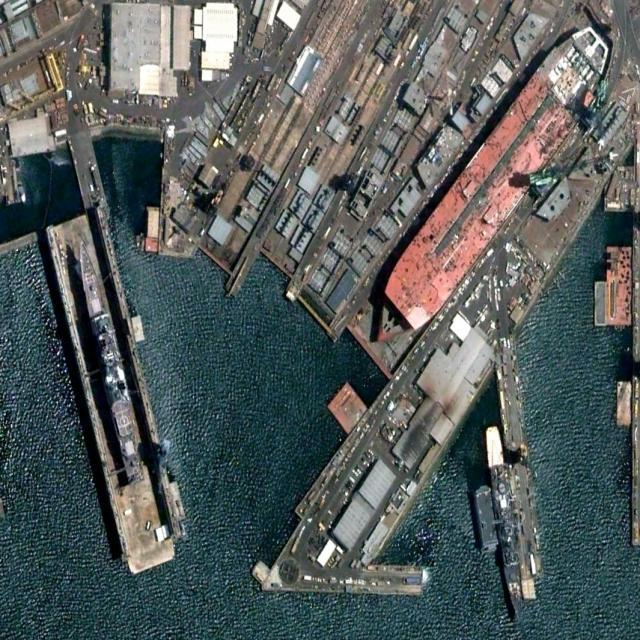Cargo: (359, 10, 619, 366)
Cruiser: (72, 235, 147, 479)
Frigate: (484, 425, 527, 627)
